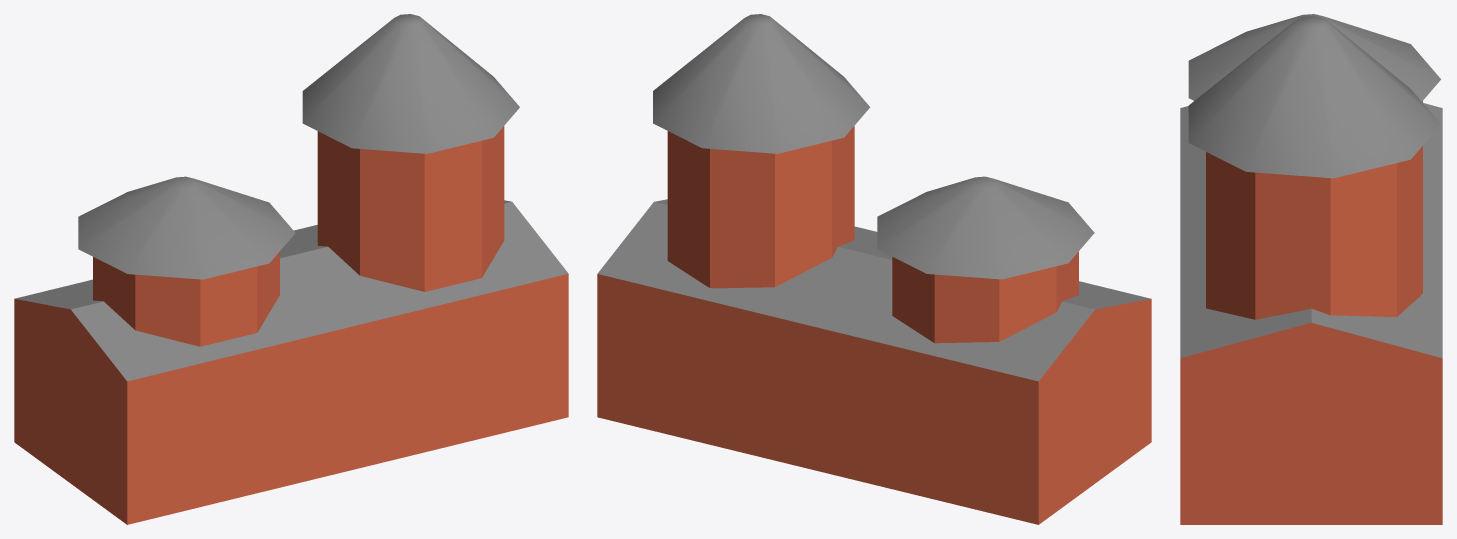
File: Bildings Backgrounds (Church).fbx
The picture shows the model from 3 angles, left to right: view 1: azimuth 30°, elevation 25°; view 2: azimuth 150°, elevation 25°; view 3: azimuth 270°, elevation 25°; orthographic projection. The views are drawn at different scales.
Parts seen in each view (by area): view 1: Bildings Backgrounds (Church); view 2: Bildings Backgrounds (Church); view 3: Bildings Backgrounds (Church).
Boxes of the visible parts, box(x1,y1,x2,y2) form: Bildings Backgrounds (Church): box(14, 14, 568, 524); Bildings Backgrounds (Church): box(597, 14, 1151, 524); Bildings Backgrounds (Church): box(1180, 14, 1442, 524).
Size of the model in its own units: 12054 by 9948 by 5344.
